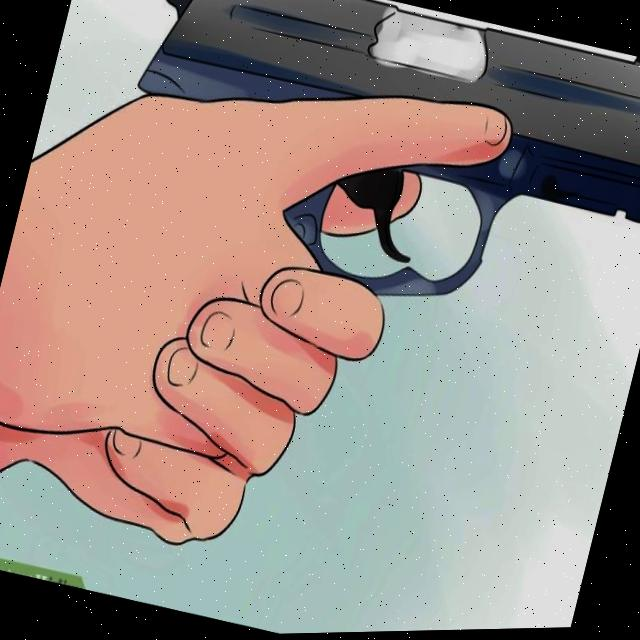pistol: (97, 0, 640, 365)
